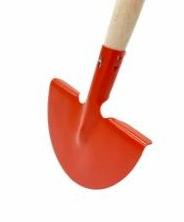PELLE: (31, 0, 184, 222)
